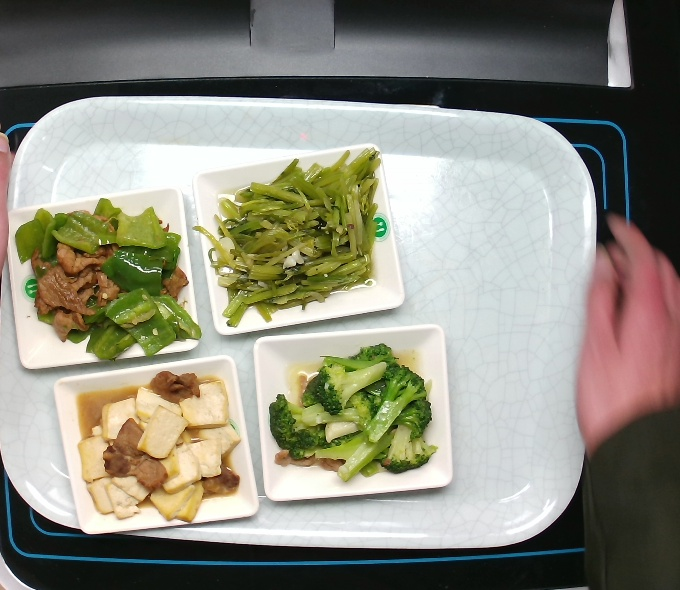wcq-DouFuRouPian: (65, 360, 251, 538)
wcq-QinCai: (204, 148, 395, 335)
wcq-QingJiaoChaoRou: (17, 198, 196, 357)
wcq-XiLanHua: (263, 335, 433, 485)
